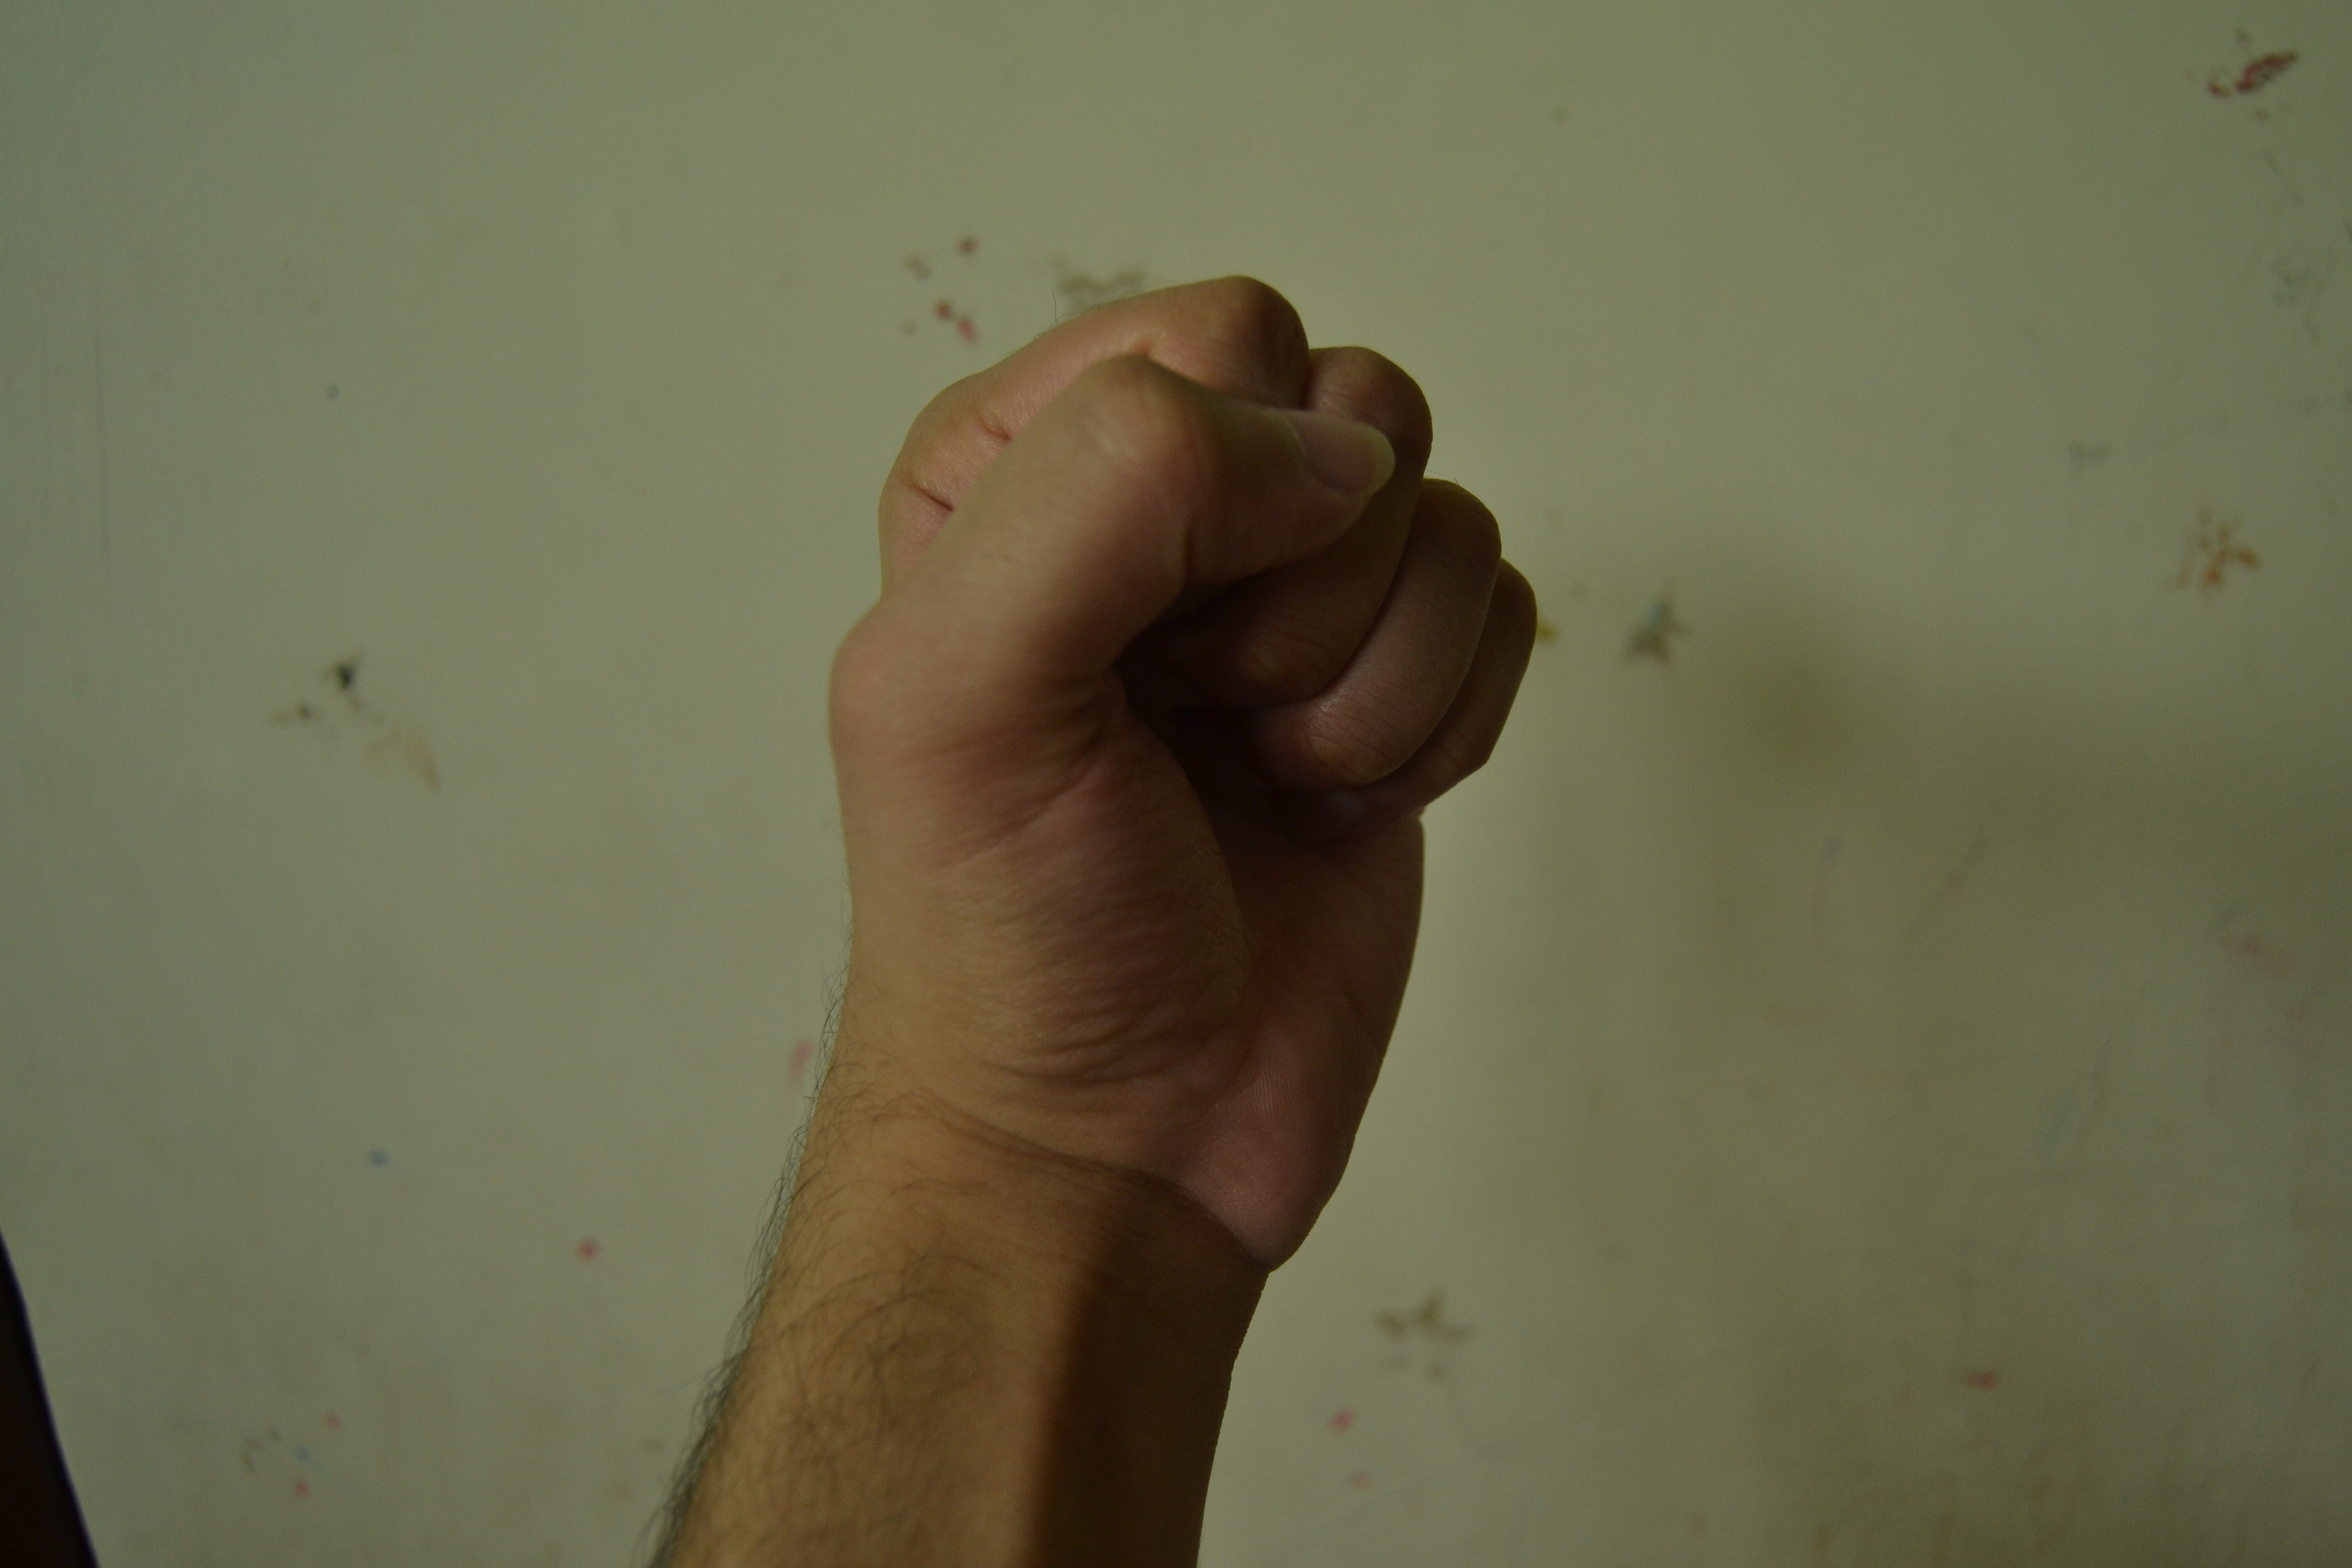click: (798, 243, 1577, 1367)
